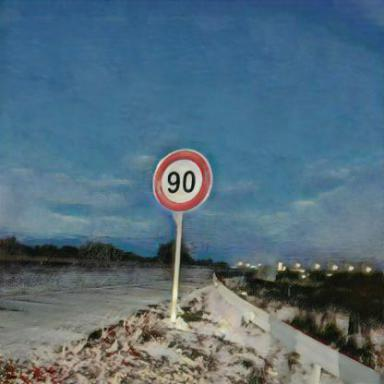Speed_limit_90: (155, 148, 212, 214)
